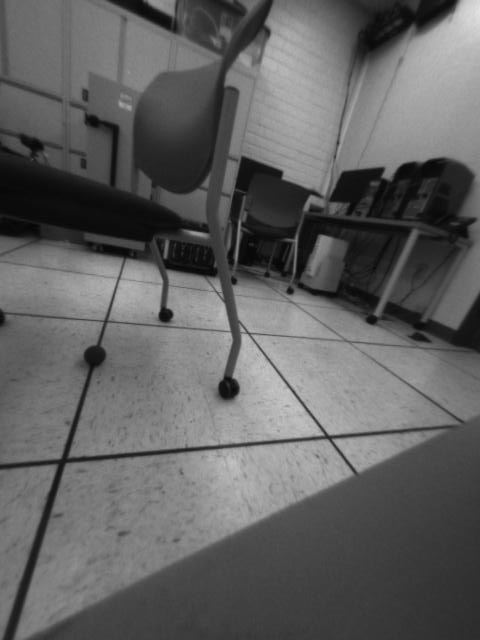dogtoy: (75, 340, 116, 374)
